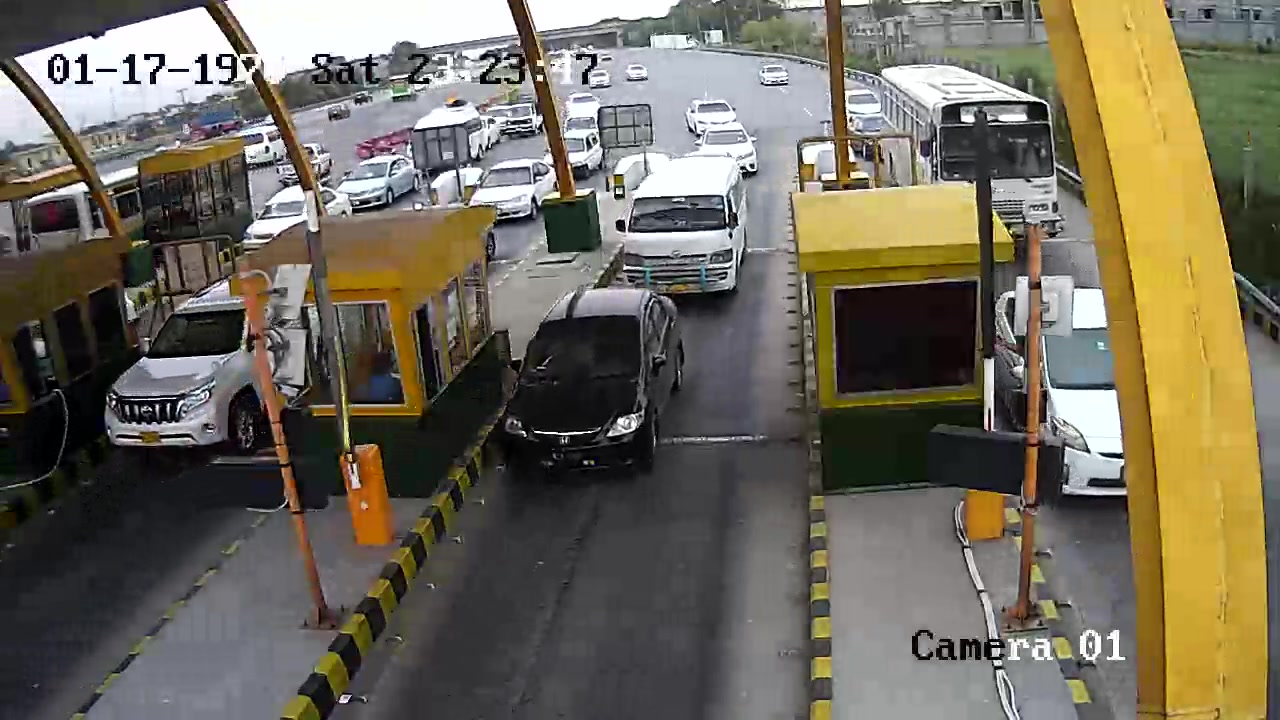F1: (493, 290, 697, 488)
